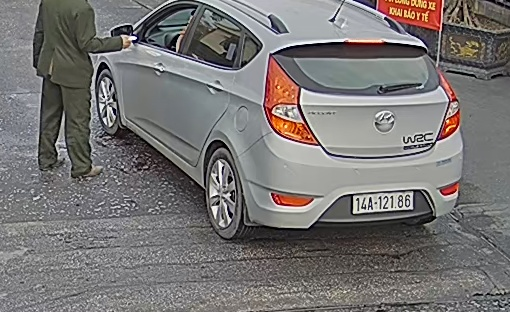vehicle plate: (347, 189, 417, 214)
